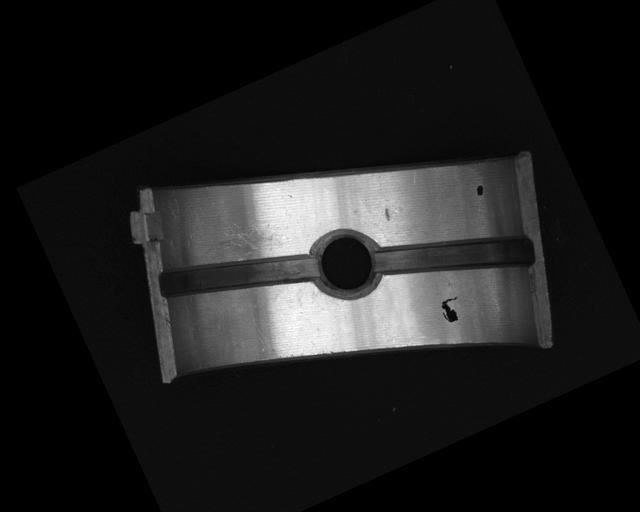blot: (437, 294, 466, 326), (473, 183, 486, 197)
bruise: (381, 206, 394, 222)
gap: (368, 191, 541, 323), (155, 214, 323, 338)
hole: (302, 219, 390, 307)
scratch: (179, 201, 281, 282)
